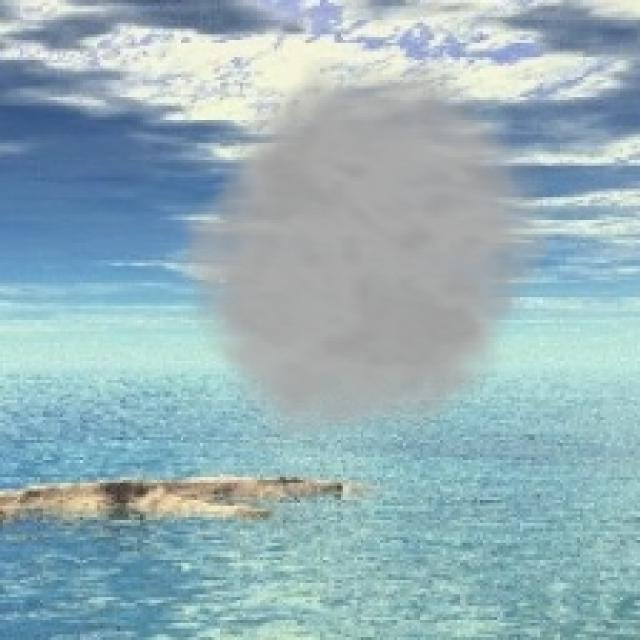smoke: (168, 57, 568, 457)
